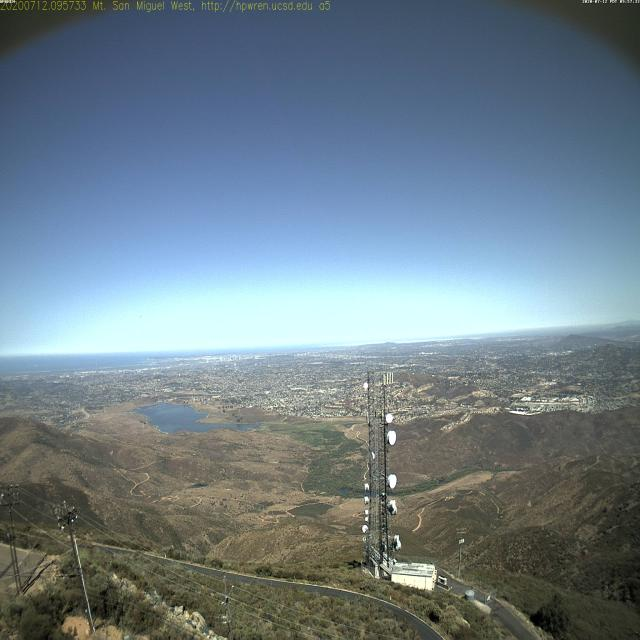smoke: (356, 337, 408, 345)
